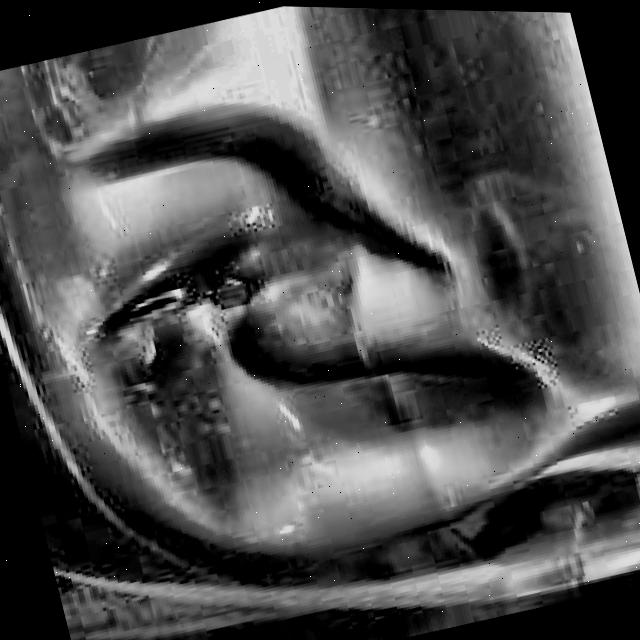bumper_dent: (24, 46, 566, 604)
